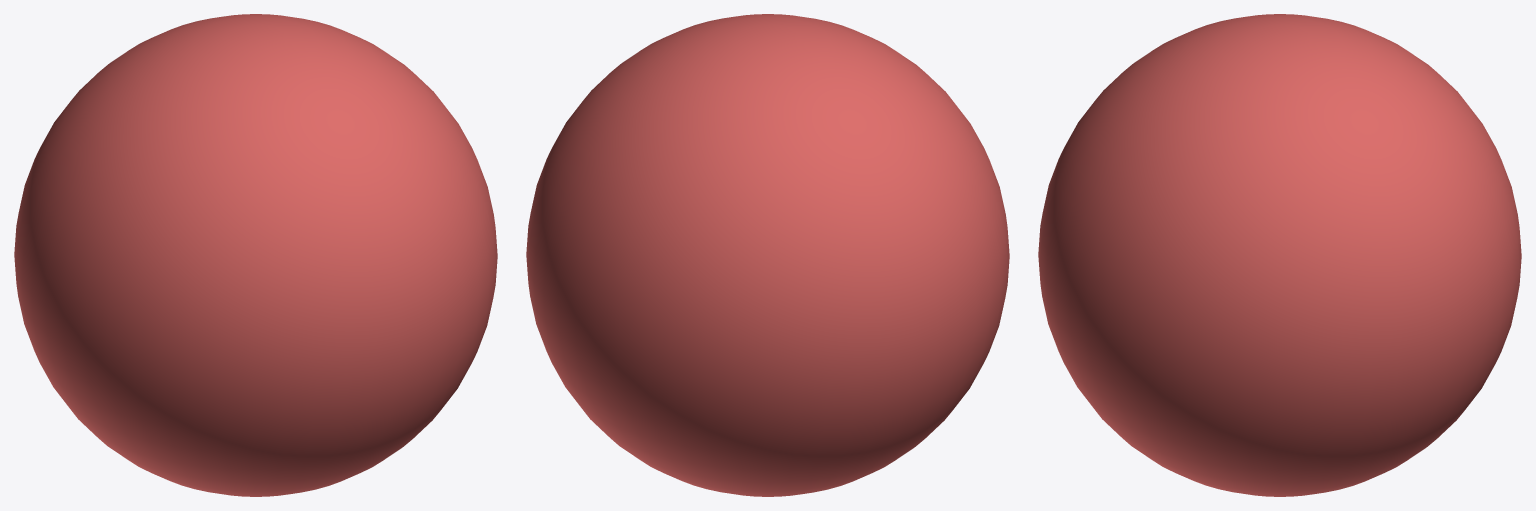
3 renders of one model, left to right at view 1: azimuth 30°, elevation 25°; view 2: azimuth 150°, elevation 25°; view 3: azimuth 270°, elevation 25°, orthographic.
Visible parts, largest first — view 1: Sphere; view 2: Sphere; view 3: Sphere.
Part boxes in pixels (x1,y1,x2,y2): Sphere: [14, 14, 497, 496]; Sphere: [526, 14, 1009, 496]; Sphere: [1038, 14, 1521, 496].
Bounding box in the file's own units: 7469 × 7470 × 7469.
